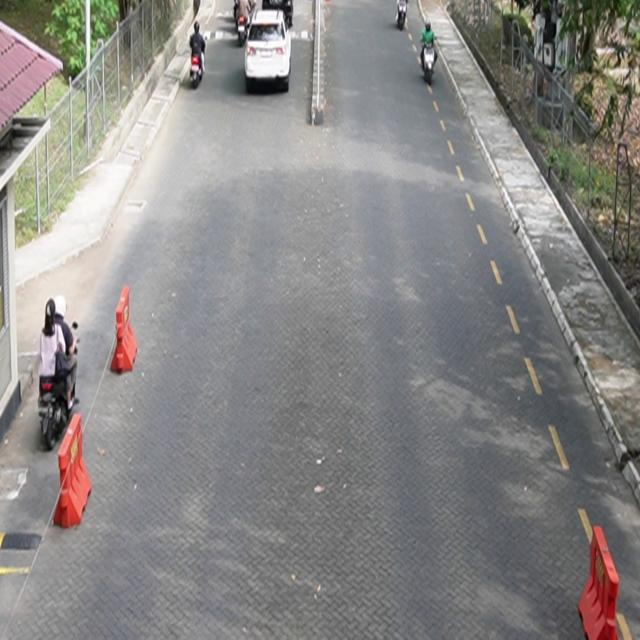car: (245, 8, 293, 94)
